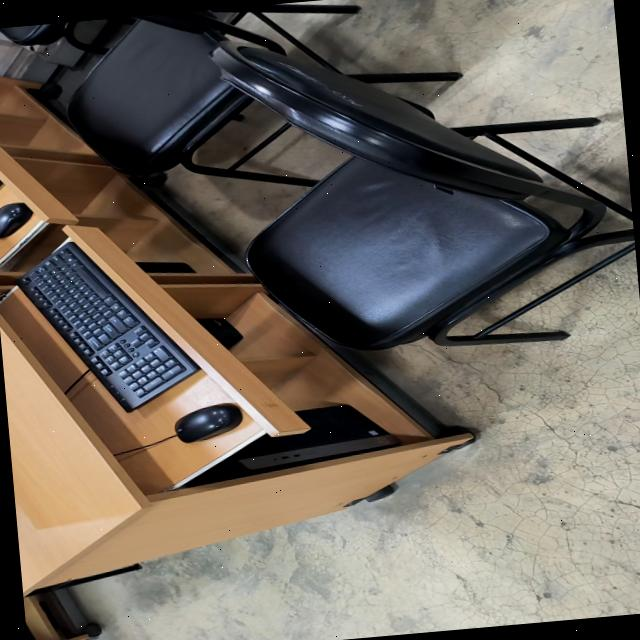Chair: (212, 41, 635, 349), (68, 13, 317, 184)
Cpu: (184, 403, 400, 485)
Keyboard: (16, 240, 199, 410)
Mouse: (174, 402, 242, 441), (0, 196, 35, 239), (0, 201, 32, 237)
